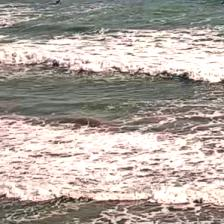surfer: (54, 0, 62, 6), (219, 1, 224, 7)
